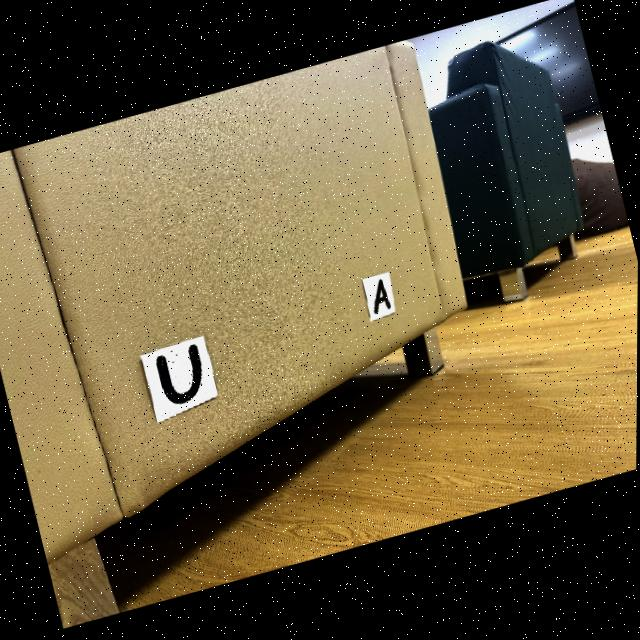A: (374, 281, 391, 316)
U: (157, 345, 202, 404)
